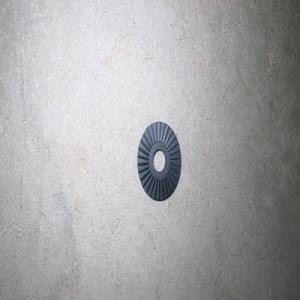Washer: (137, 121, 180, 201)
